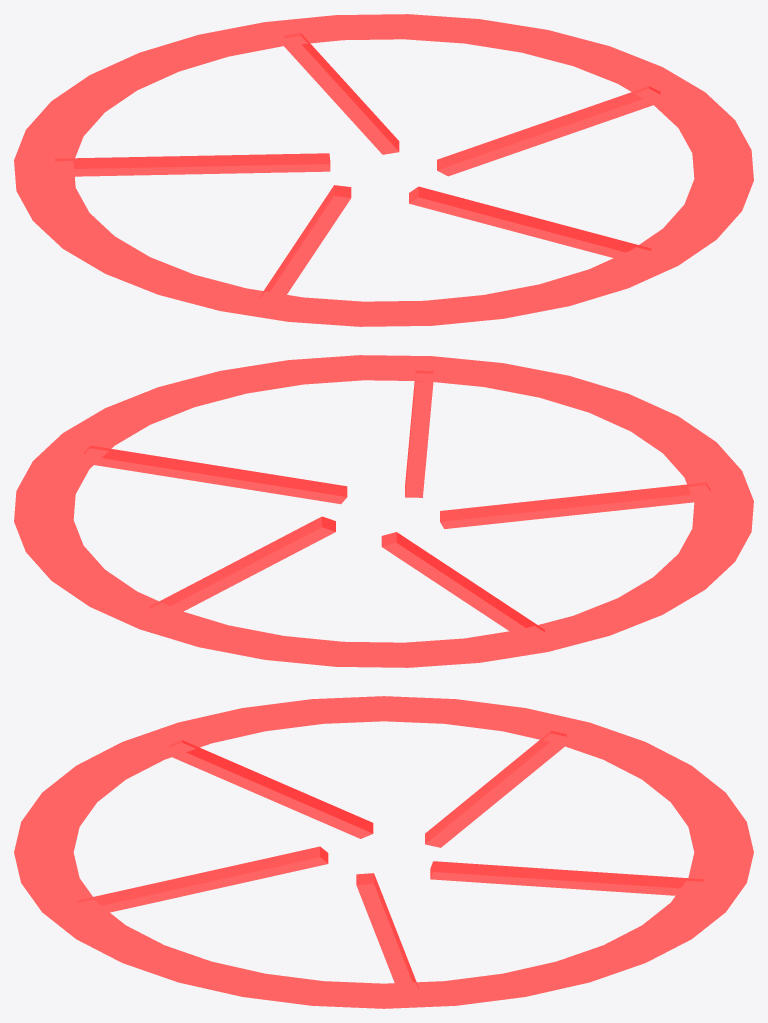
File: bv_ring_dead.glb
The picture shows the model from 3 angles, top to bottom: view 1: azimuth 30°, elevation 25°; view 2: azimuth 150°, elevation 25°; view 3: azimuth 270°, elevation 25°; orthographic projection.
Visible parts, largest first — view 1: ring_dead; view 2: ring_dead; view 3: ring_dead.
Boxes of the visible parts, x1,y1,x2,y2 form: ring_dead: [14, 14, 753, 326]; ring_dead: [14, 355, 753, 667]; ring_dead: [14, 696, 753, 1008].
Size of the model in its own units: 1.24 by 0.02 by 1.24.
